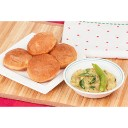poori: (29, 54, 59, 81), (50, 41, 76, 69), (4, 48, 33, 71), (26, 33, 57, 54)
